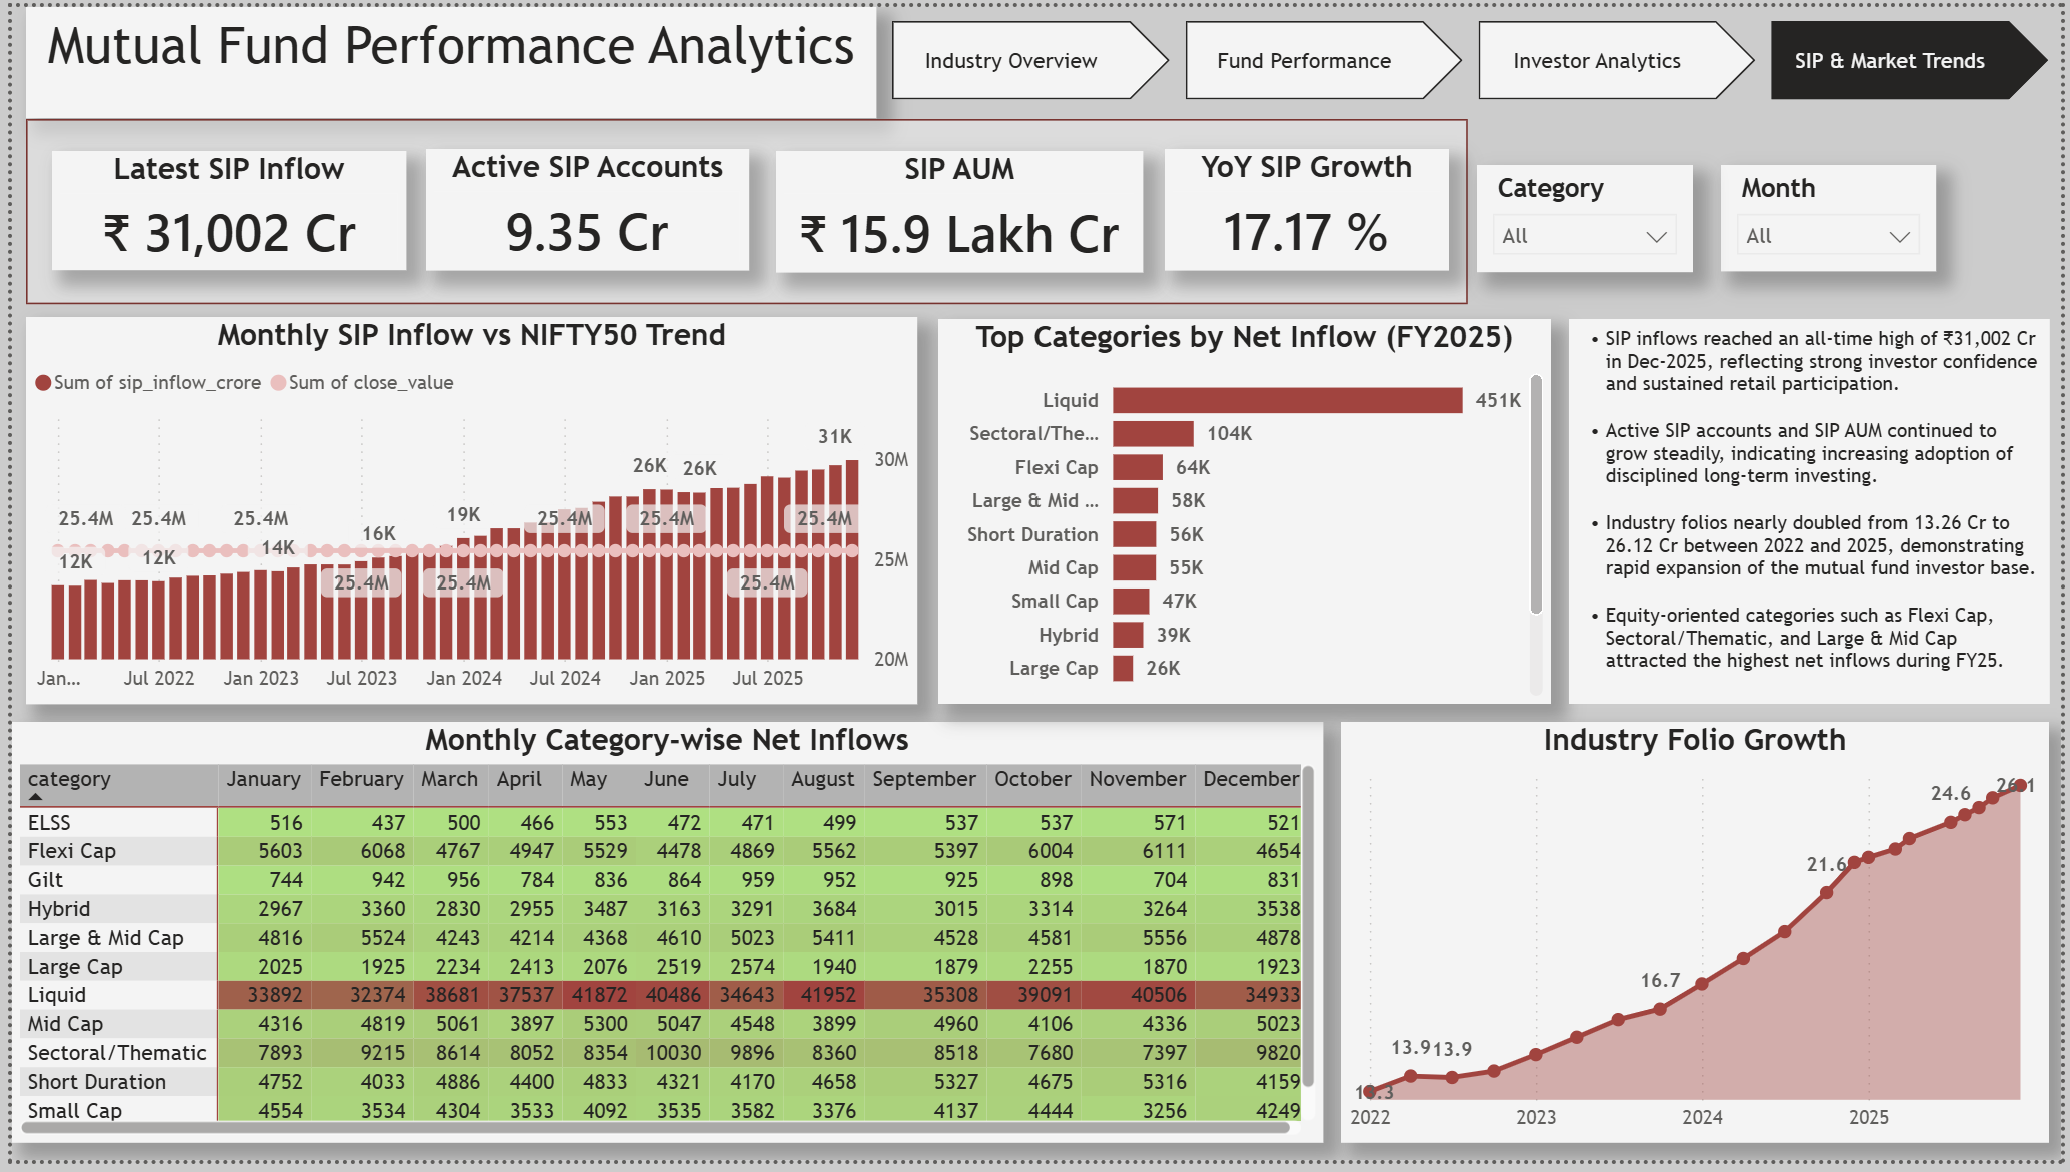

What the dashboard file says about the page in this screenshot:
{"tool":"powerbi","page":{"name":" SIP & Market Trends","canvas":[1280,720],"ordinal":3},"visuals":[{"type":"textbox","box":[9,0,531.3,69.5],"z":0},{"type":"shape","box":[9,69.5,900.5,115.8],"z":1000},{"type":"cardVisual","title":"Latest SIP Inflow","fields":{"Data":["DAX_Measures.Latest SIP Inflow"]},"box":[24.4,90.1,221.3,74.6],"z":2000},{"type":"cardVisual","title":"Active SIP Accounts","fields":{"Data":["DAX_Measures.Latest Active SIP Accounts"]},"box":[258.6,88.8,202,75.9],"z":3000},{"type":"cardVisual","title":"SIP AUM","fields":{"Data":["DAX_Measures.Latest SIP AUM"]},"box":[477.3,90.1,229,75.9],"z":4000},{"type":"cardVisual","title":"YoY SIP Growth","fields":{"Data":["DAX_Measures.Latest YoY"]},"box":[720.4,88.8,177.5,75.9],"z":5000},{"type":"slicer","fields":{"Values":["06_industry_folio_count.month"]},"box":[1068,99.1,134.7,66.6],"z":6000},{"type":"slicer","fields":{"Values":["01_fund_master.category"]},"box":[914.7,99.1,135.1,66.9],"z":7000},{"type":"pageNavigator","box":[549.5,9.3,722.8,49.5],"z":8000},{"type":"lineClusteredColumnComboChart","title":"Monthly SIP Inflow vs NIFTY50 Trend","fields":{"Y":["Sum(04_monthly_sip_inflows.sip_inflow_crore)"],"Y2":["Sum(10_benchmark_indices.close_value)"],"Category":["04_monthly_sip_inflows.month"]},"box":[9.3,193.5,557.2,241.5],"z":11000},{"type":"pivotTable","title":"Monthly Category-wise Net Inflows","fields":{"Rows":["05_category_inflows.category"],"Columns":["05_category_inflows.month.Variation.Date Hierarchy.Month"],"Values":["Sum(05_category_inflows.net_inflow_crore)"]},"box":[0,445.8,818.8,263.1],"z":12000},{"type":"barChart","title":"Top Categories by Net Inflow (FY2025)","fields":{"Category":["05_category_inflows.category"],"Y":["Sum(05_category_inflows.net_inflow_crore)"]},"box":[578.9,195,382.3,239.9],"z":12001},{"type":"lineChart","title":"Industry Folio Growth","fields":{"Y":["Sum(06_industry_folio_count.total_folios_crore)"],"Category":["06_industry_folio_count.month"]},"box":[829.6,445.8,442.7,263.1],"z":12002},{"type":"textbox","box":[972,195,300.3,239.9],"z":12003}]}

Visuals, with their boxes in screenshot pixels (x1, y1, x2, y2), scaled from the page's 1280x720 canvas onto the 2070x1172 screenshot:
textbox: l=15, t=0, r=874, b=113
shape: l=15, t=113, r=1471, b=302
"Latest SIP Inflow" cardVisual: l=39, t=147, r=397, b=268
"Active SIP Accounts" cardVisual: l=418, t=145, r=745, b=268
"SIP AUM" cardVisual: l=772, t=147, r=1142, b=270
"YoY SIP Growth" cardVisual: l=1165, t=145, r=1452, b=268
slicer - 06_industry_folio_count.month: l=1727, t=161, r=1945, b=270
slicer - 01_fund_master.category: l=1479, t=161, r=1698, b=270
pageNavigator: l=889, t=15, r=2058, b=96
"Monthly SIP Inflow vs NIFTY50 Trend" lineClusteredColumnComboChart: l=15, t=315, r=916, b=708
"Monthly Category-wise Net Inflows" pivotTable: l=0, t=726, r=1324, b=1154
"Top Categories by Net Inflow (FY2025)" barChart: l=936, t=317, r=1554, b=708
"Industry Folio Growth" lineChart: l=1342, t=726, r=2058, b=1154
textbox: l=1572, t=317, r=2058, b=708
